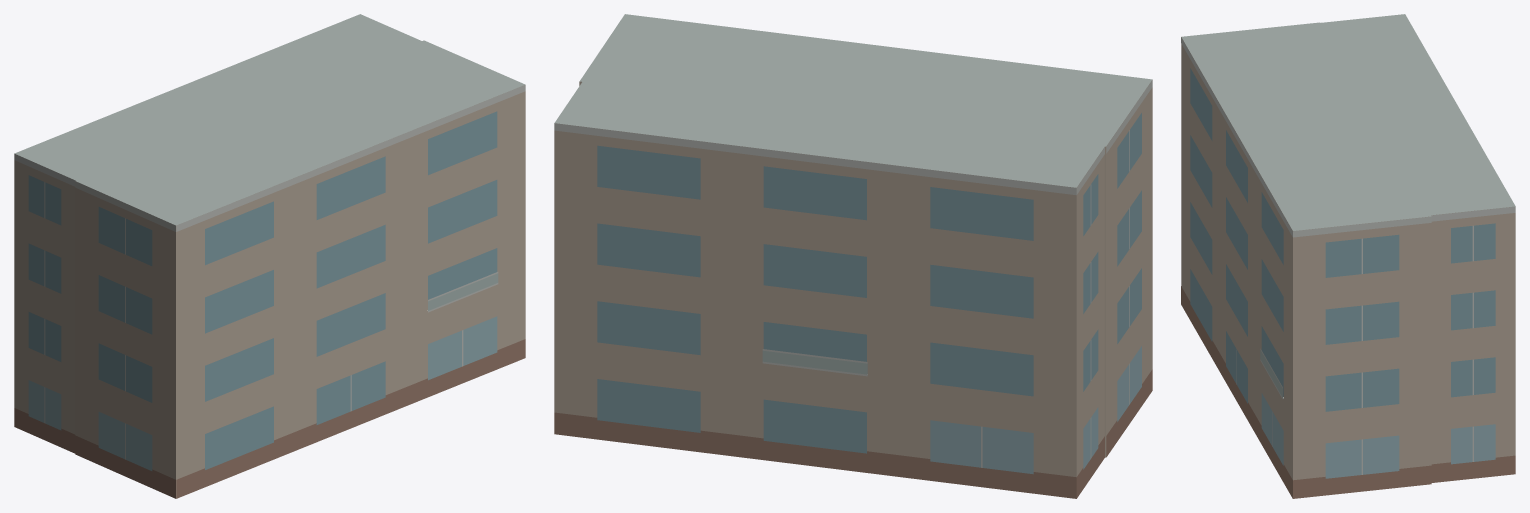
The model's file is survey-upis-32800741.glb.
3 renders of one model, left to right at view 1: azimuth 30°, elevation 25°; view 2: azimuth 150°, elevation 25°; view 3: azimuth 270°, elevation 25°, orthographic. The views are drawn at different scales.
Visible parts, largest first — view 1: survey-upis-32800741.tmp; view 2: survey-upis-32800741.tmp; view 3: survey-upis-32800741.tmp.
Boxes of the visible parts, bbox=[...] form: survey-upis-32800741.tmp: bbox=[14, 14, 525, 498]; survey-upis-32800741.tmp: bbox=[554, 14, 1152, 498]; survey-upis-32800741.tmp: bbox=[1181, 14, 1515, 498].
Size of the model in its own units: 17.75 by 10.2 by 11.56.
